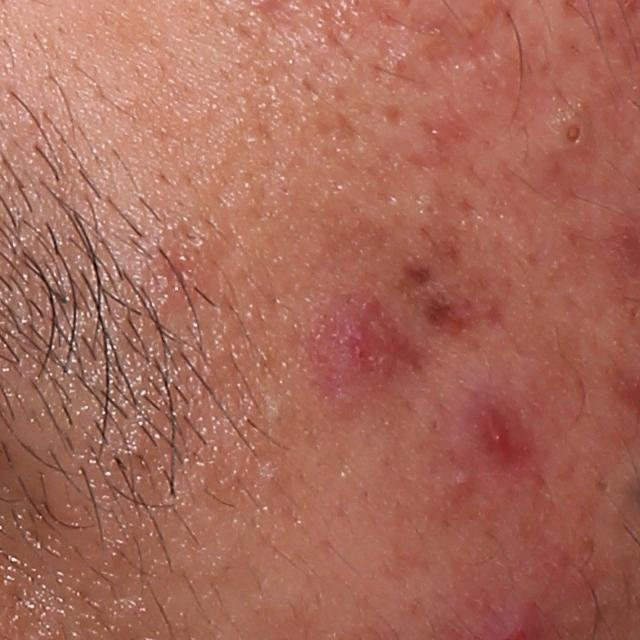atrophic_scar: (413, 293, 473, 338), (393, 263, 436, 293)
comedo: (544, 99, 593, 159)
papule: (293, 283, 413, 408), (461, 391, 522, 469), (437, 459, 476, 501)
